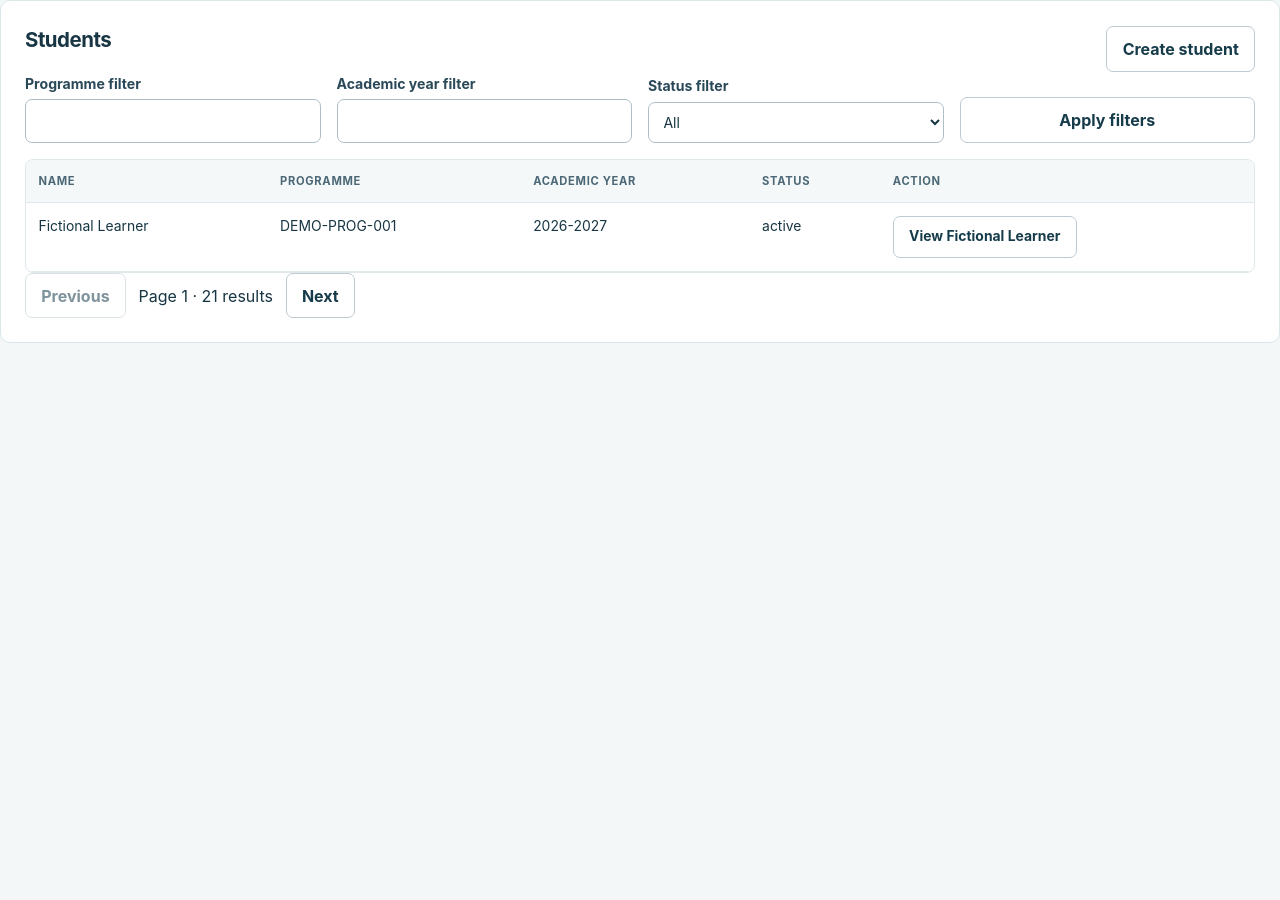
student management › lists, filters, paginates and opens permitted details without showing APAAR in the list
This screenshot has width=1280, height=900.
expect the text "Fictional Learner" is shown: met, box x1=26 y1=202 x2=268 y2=271
expect the text "000000000099" is not shown: met
Step 1. Click the button "Next" → (320, 296), box x1=286 y1=273 x2=355 y2=318
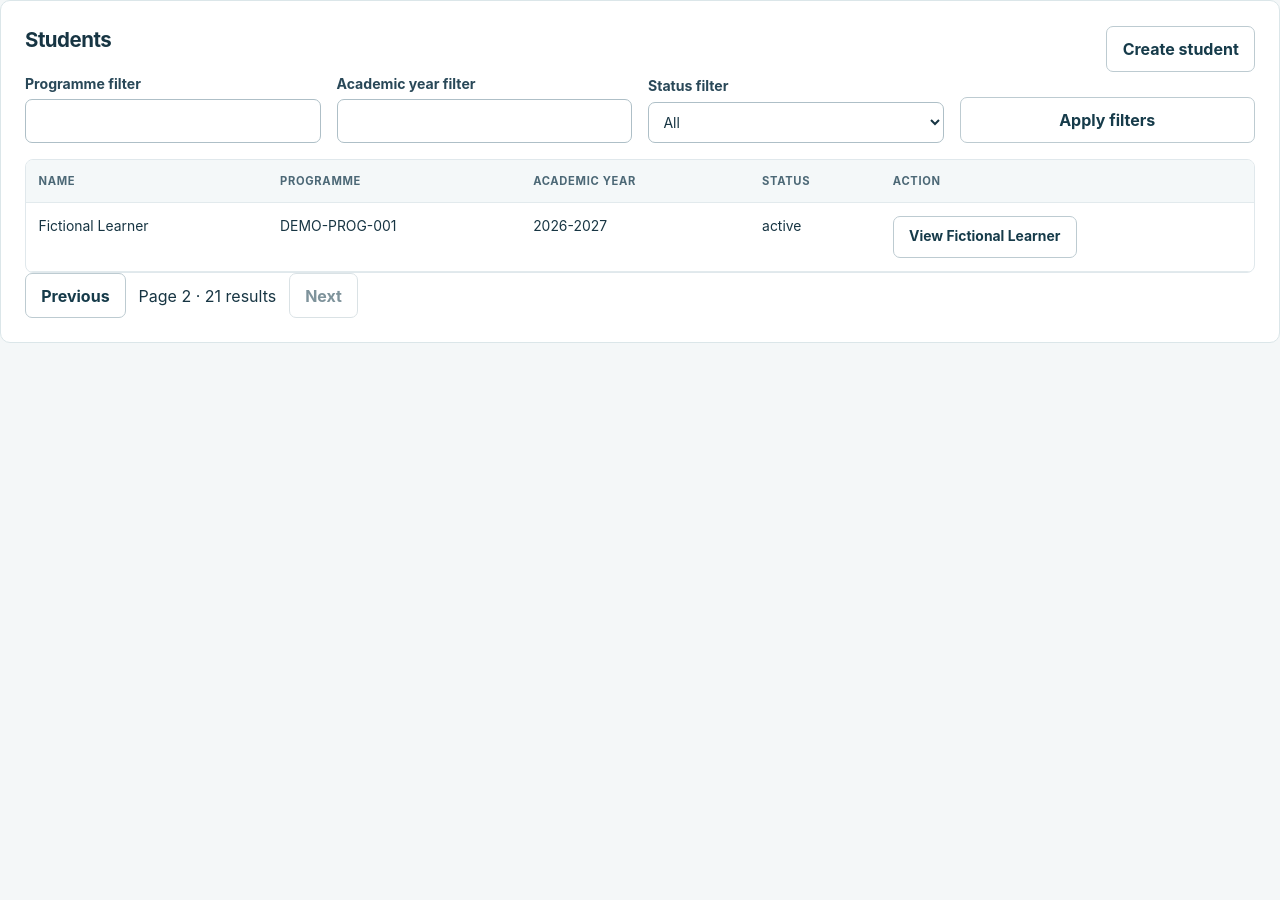
expect the text "Page 2 · 21 results" is shown: met, box x1=139 y1=284 x2=276 y2=308
Step 2. Type "DEMO-PROG-001" into the field labelled "Programme filter" → (173, 121), box x1=25 y1=99 x2=320 y2=143
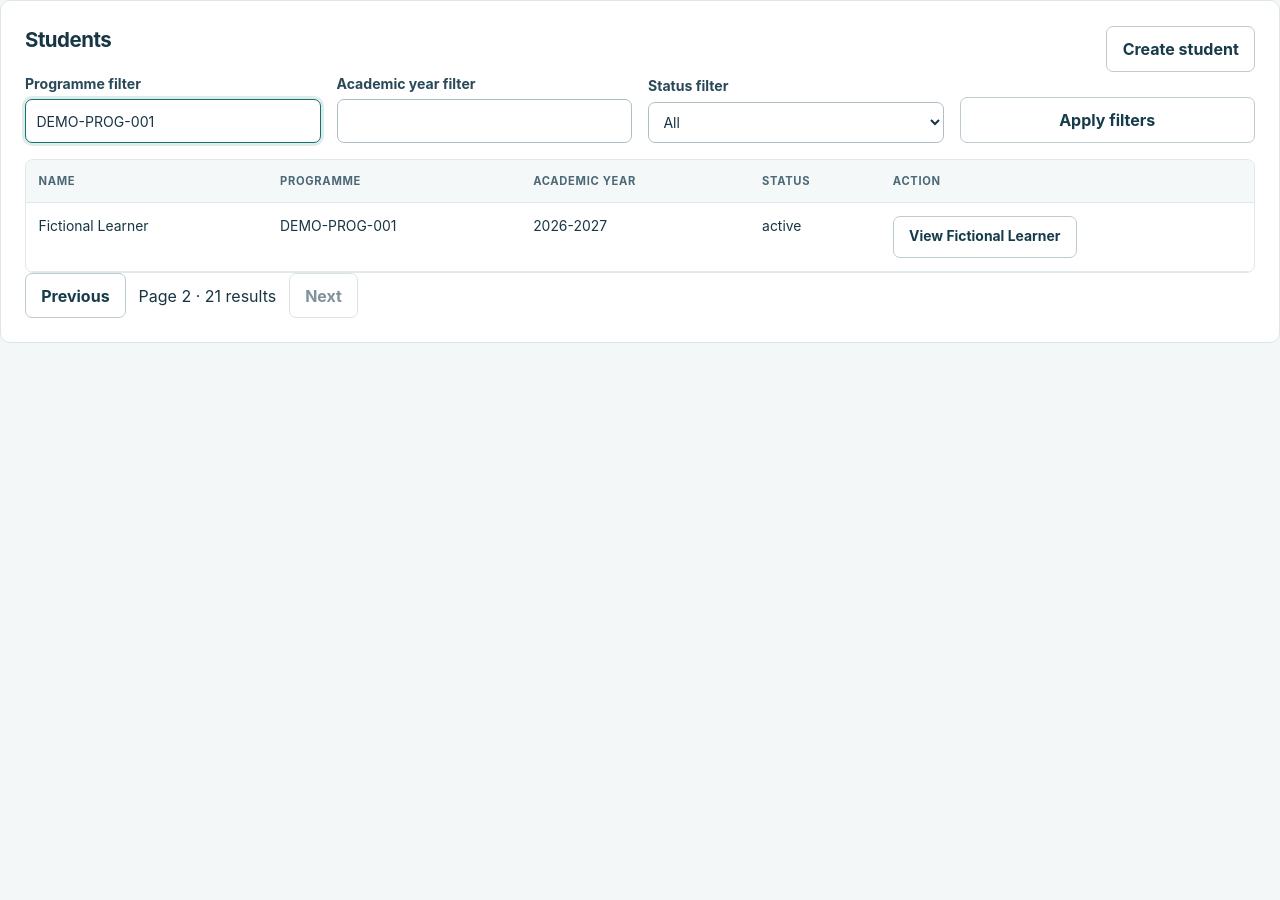
Step 3. Click the button "Apply filters" → (1107, 120), box x1=960 y1=98 x2=1255 y2=143
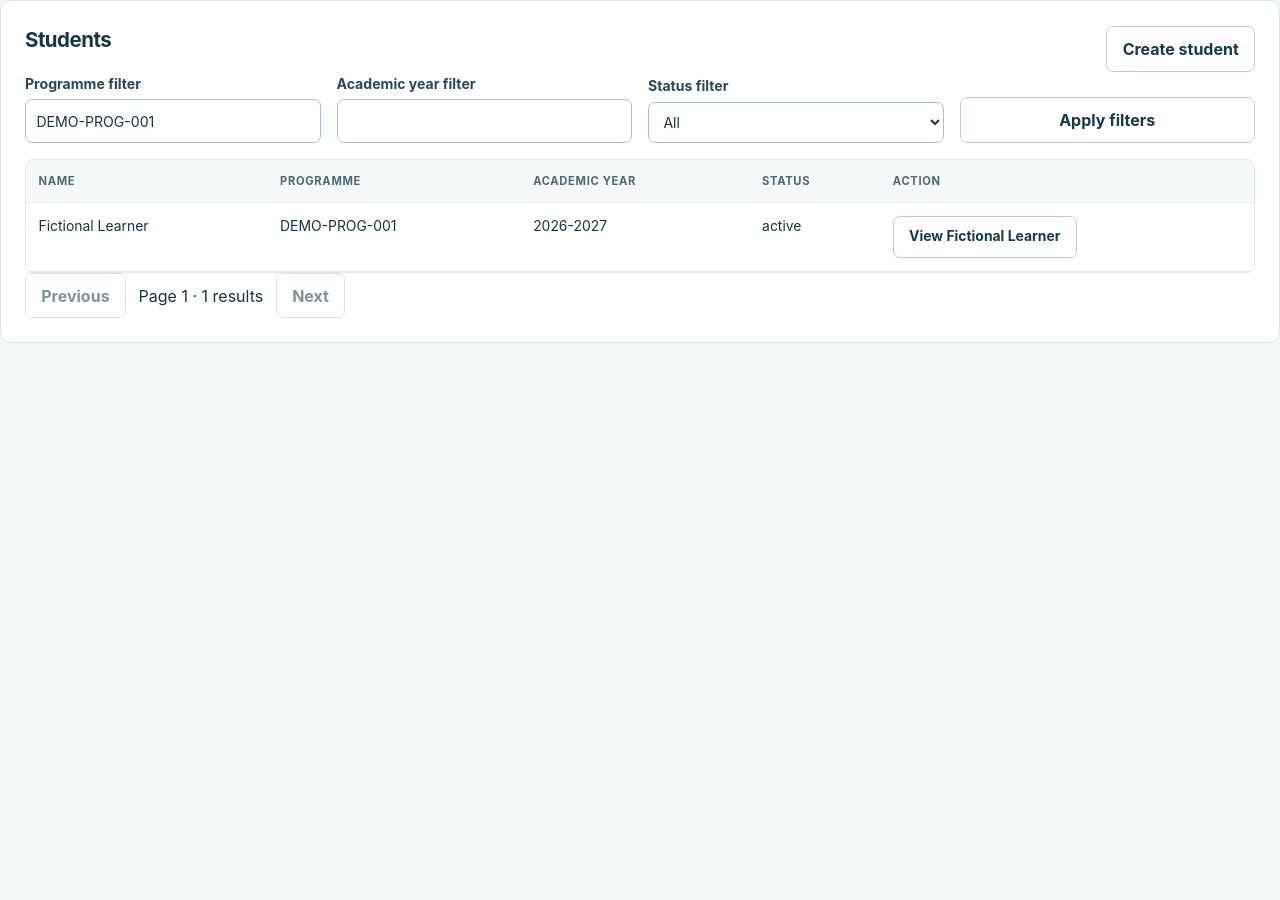
expect the text "Page 1 · 1 results" is shown: met, box x1=139 y1=284 x2=263 y2=308
Step 4. Click the button "View Fictional Learner" → (985, 237), box x1=893 y1=216 x2=1077 y2=258
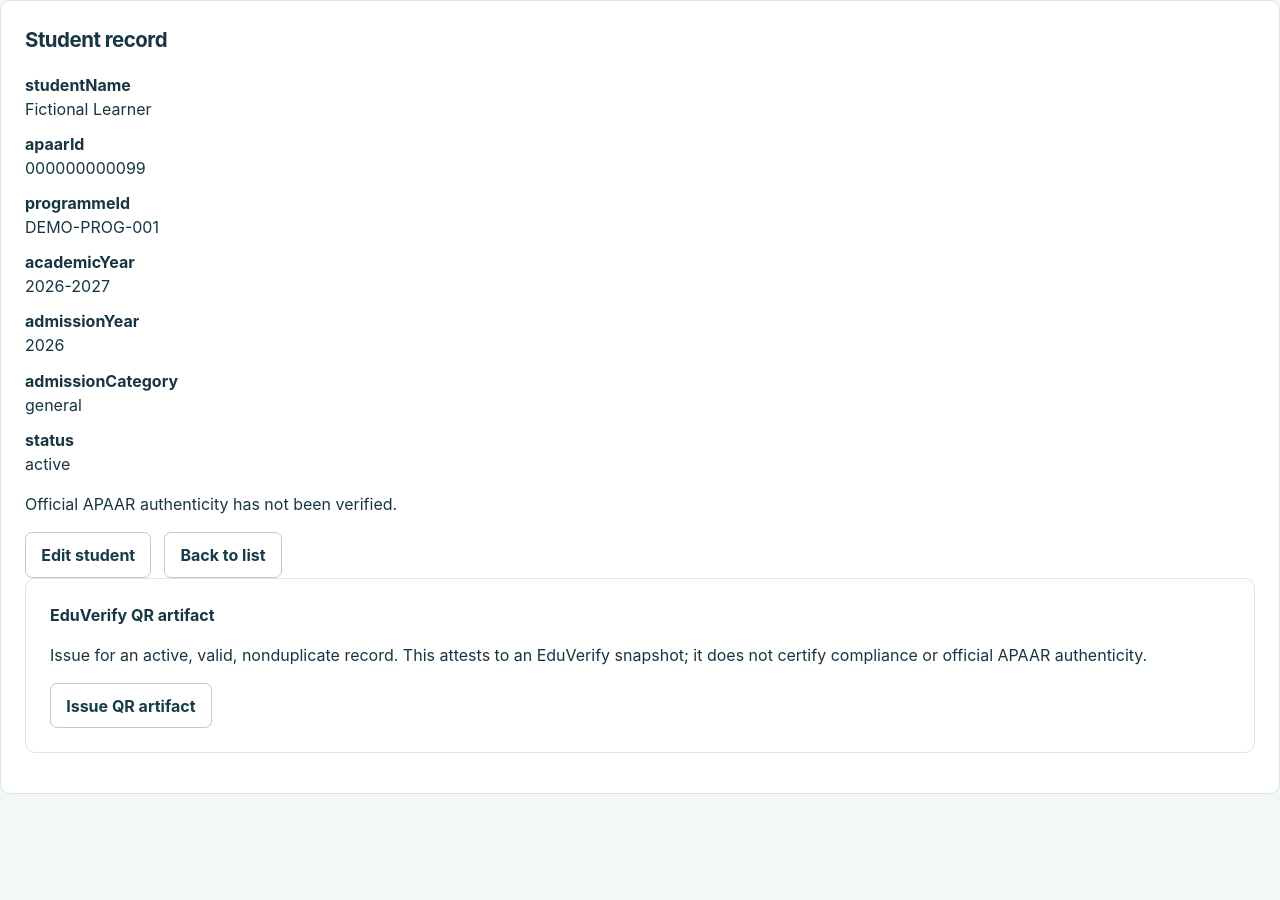
expect the text "000000000099" is shown: met, box x1=25 y1=158 x2=146 y2=178
